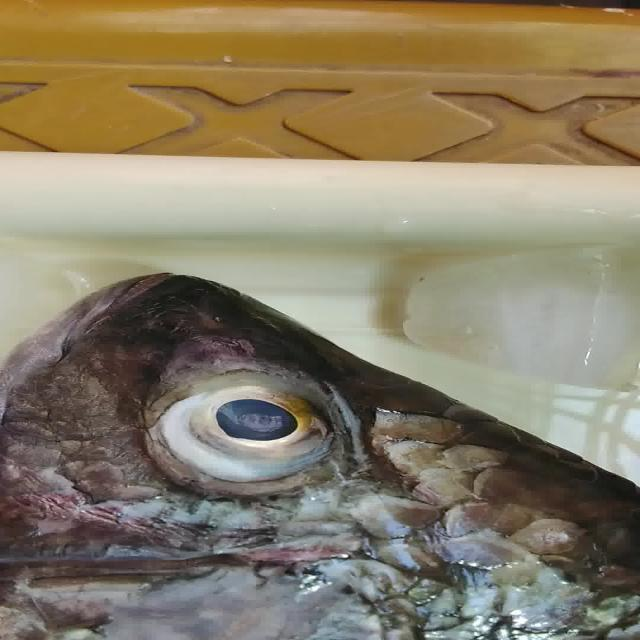Fresh: (95, 351, 405, 496)
